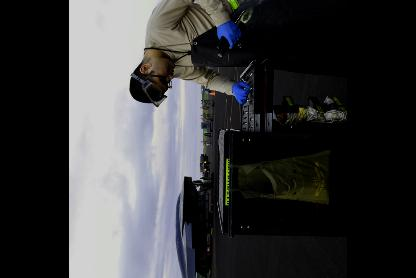B1: (175, 174, 214, 277)
